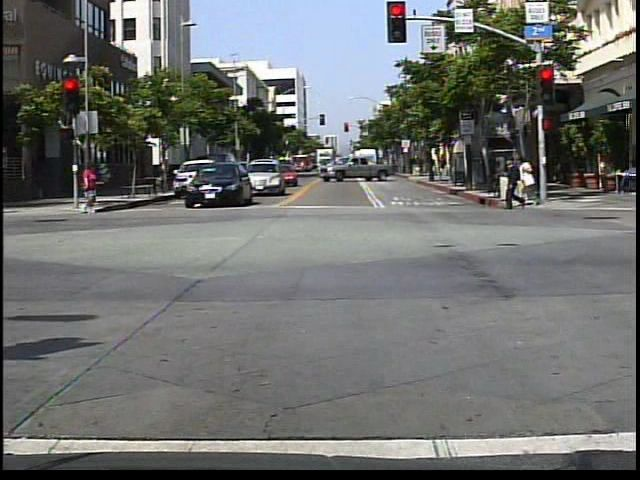person: (501, 155, 528, 214), (520, 151, 541, 211), (78, 159, 98, 219), (612, 150, 638, 193)
